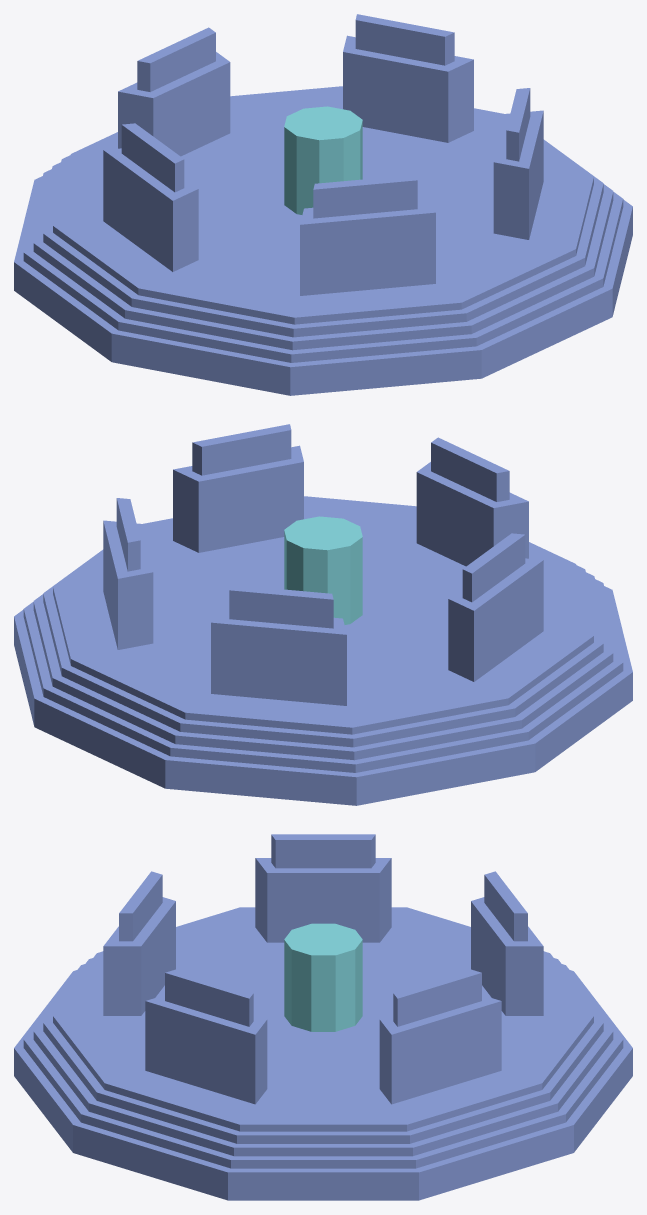
Rendered from PedistleLVL1.fbx.
The picture shows the model from 3 angles, top to bottom: view 1: azimuth 30°, elevation 25°; view 2: azimuth 150°, elevation 25°; view 3: azimuth 270°, elevation 25°; orthographic projection. The views are drawn at different scales.
Visible parts, largest first — view 1: Cylinder; view 2: Cylinder; view 3: Cylinder.
Boxes of the visible parts, x1,y1,x2,y2 form: Cylinder: [14, 14, 632, 395]; Cylinder: [14, 424, 632, 805]; Cylinder: [14, 834, 632, 1200].
Size of the model in its own units: 1902 by 563 by 2000.
